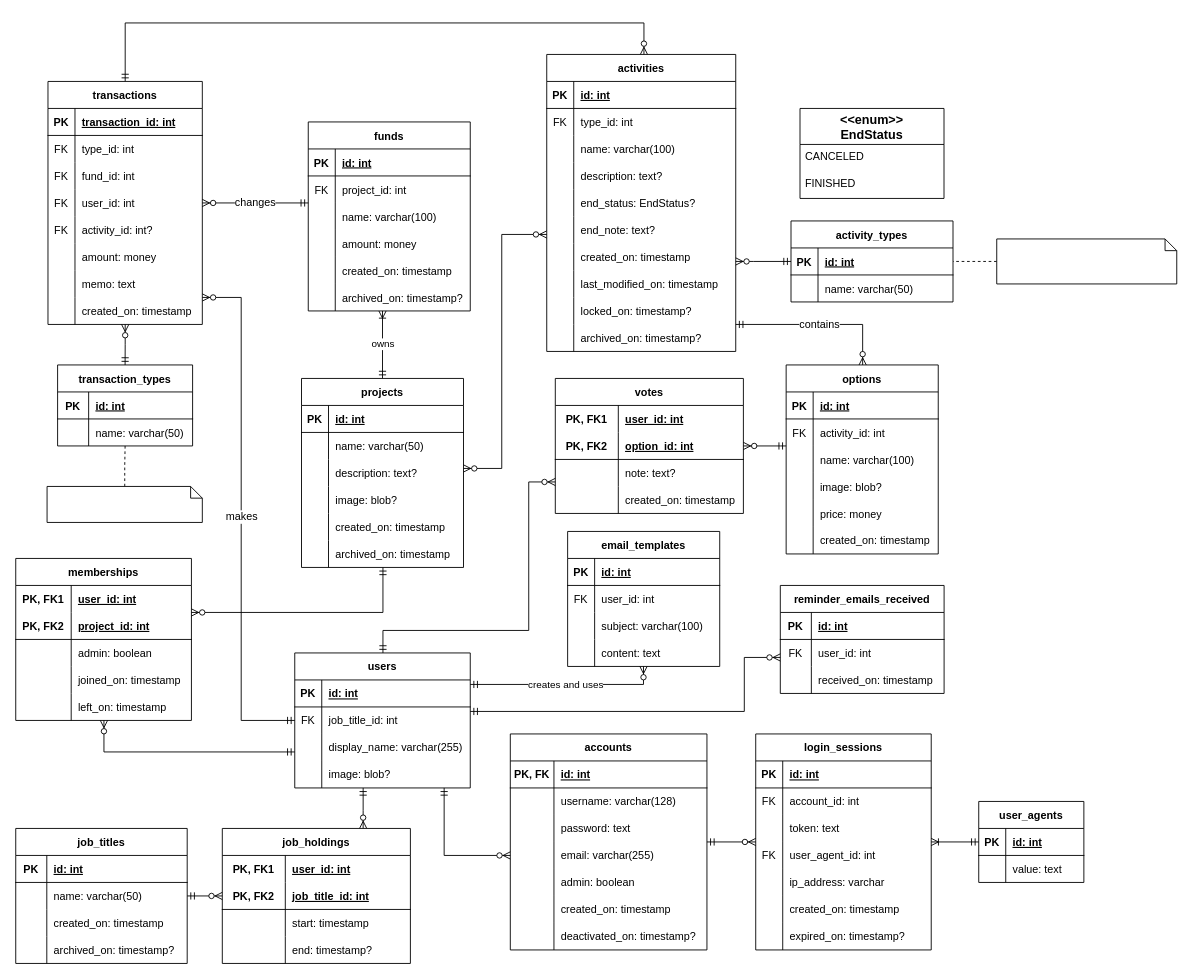
This 1193x979 diagram has some shape labels left out. Here are the shapes that lost their labels. From the top down, the centre of each, then its label:
the point at 1086,261: Currently only With options and Without options are available
the point at 124,504: Either Spending or Funding .
